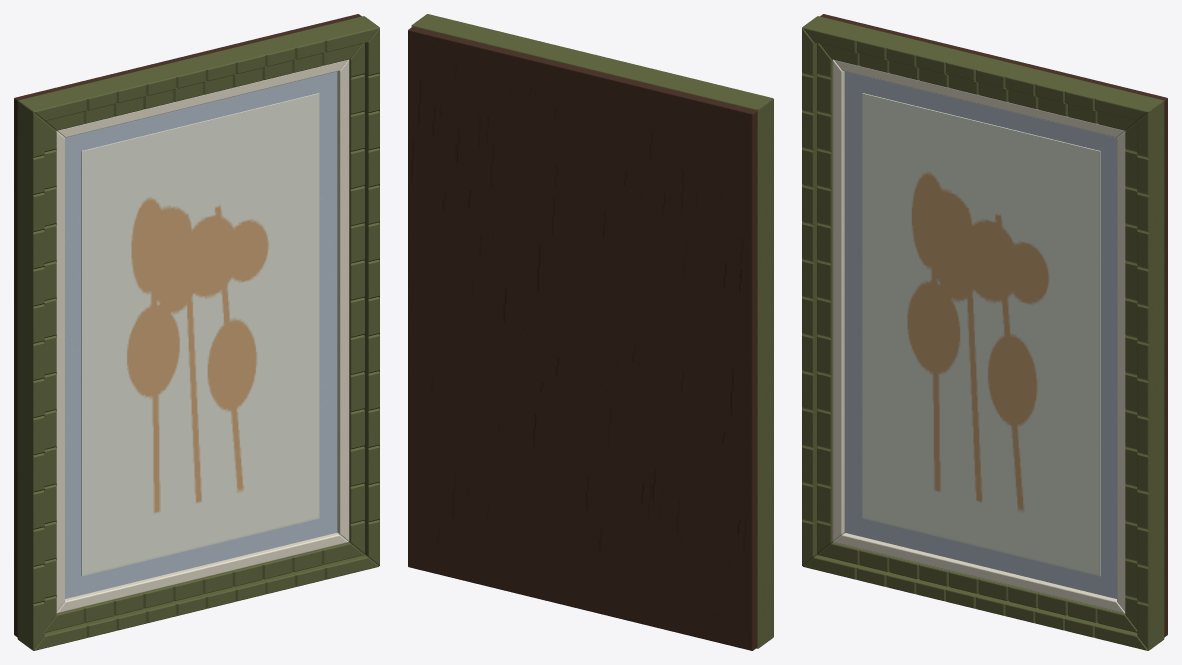
The model's file is Frame_22_FUR06_A4.fbx.
3 renders of one model, left to right at view 1: azimuth 30°, elevation 25°; view 2: azimuth 150°, elevation 25°; view 3: azimuth 330°, elevation 25°, orthographic.
Visible parts, largest first — view 1: Frame_22; view 2: Frame_22; view 3: Frame_22.
Boxes of the visible parts, x1,y1,x2,y2 form: Frame_22: (14, 14, 379, 650); Frame_22: (408, 14, 773, 650); Frame_22: (802, 14, 1167, 650).
Bounding box in the file's own units: 0.35 × 0.52 × 0.036.
